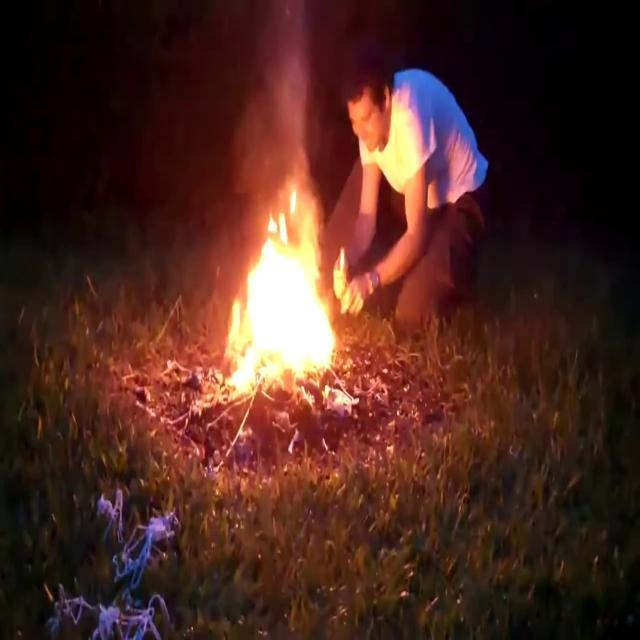Fire: (214, 171, 353, 397)
Smoke: (227, 0, 321, 204)
